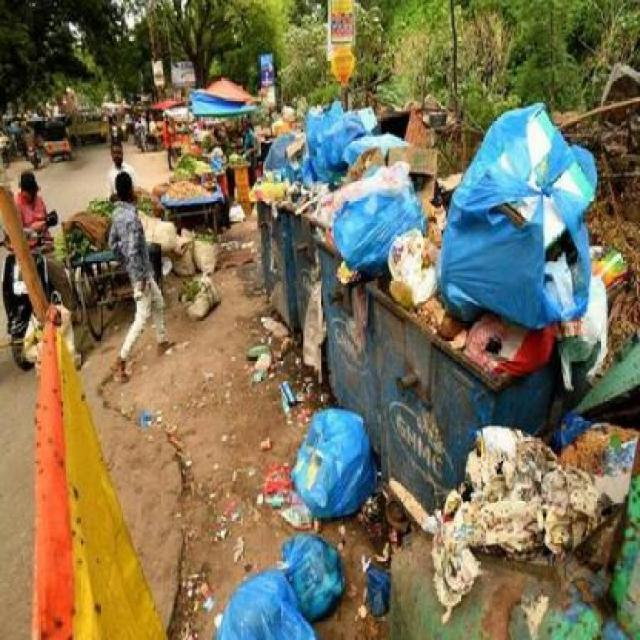garbage: (266, 99, 639, 375), (168, 317, 399, 640), (419, 400, 640, 640), (151, 214, 266, 312), (114, 389, 164, 434), (225, 197, 251, 217)
